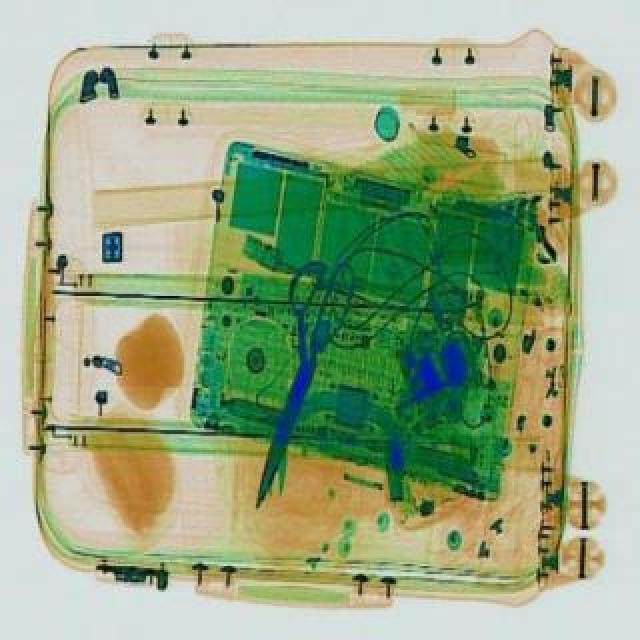pliers: (224, 250, 360, 514)
